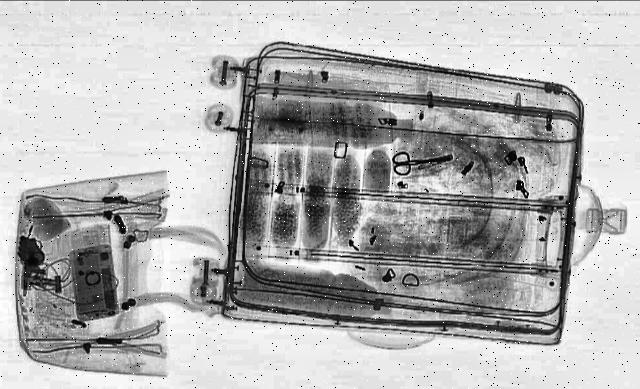Scissors: (386, 144, 460, 176)
